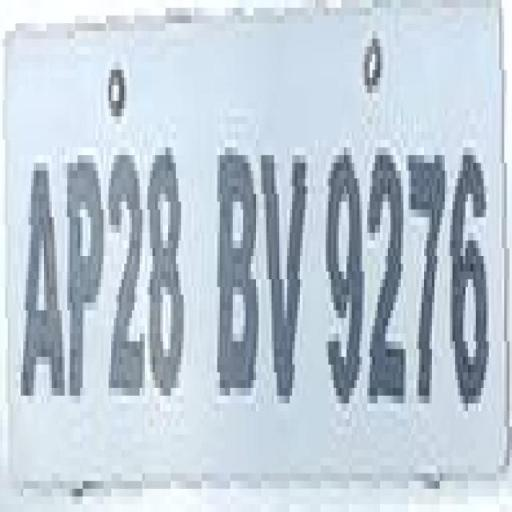number plate: (0, 15, 504, 504)
